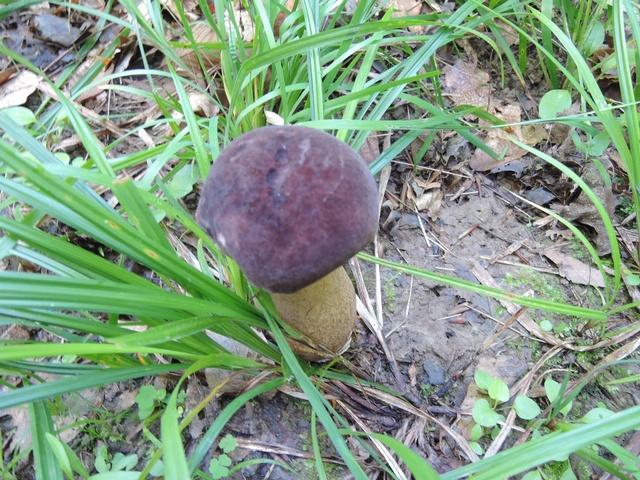Non-edible Mushroom: (193, 123, 380, 362)
